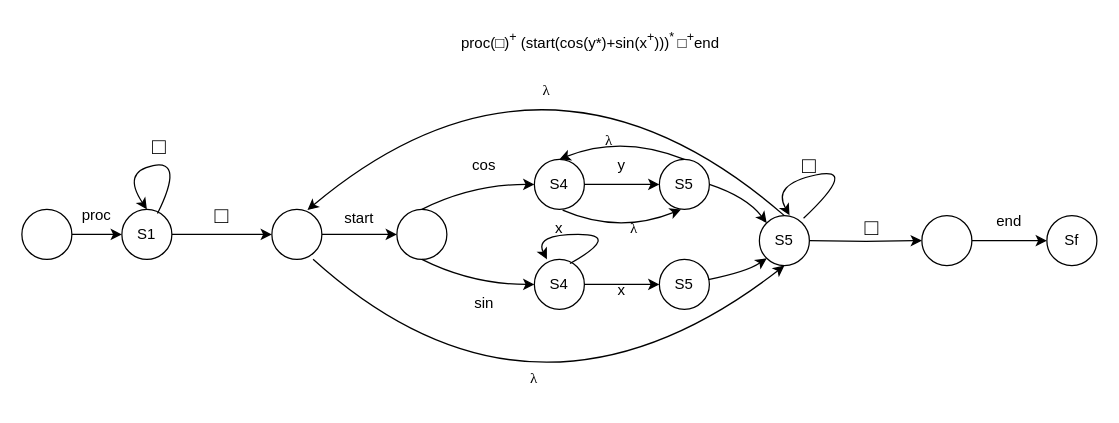
Image size: 1119x423. Some labels were removed from this diagram. Each missing label, with the centre of its shape:
S0: (46,233)
S2: (296,233)
S3: (421,233)
S6: (946,240)
